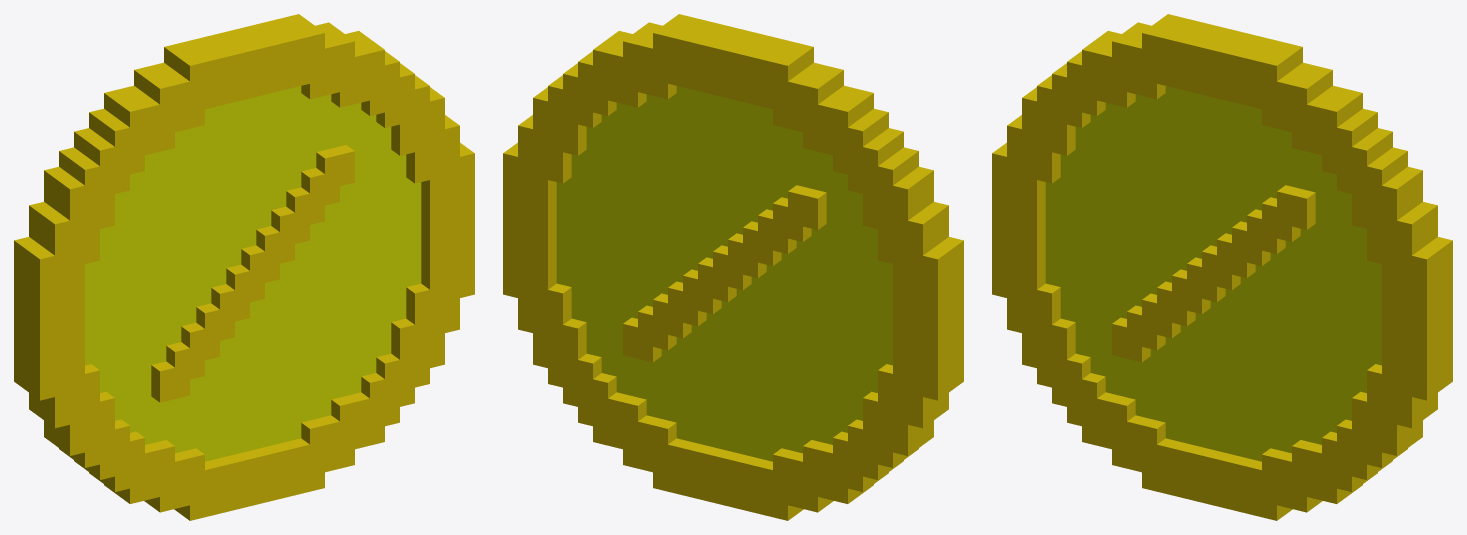
The model's file is Flat Coin.fbx.
3 renders of one model, left to right at view 1: azimuth 30°, elevation 25°; view 2: azimuth 150°, elevation 25°; view 3: azimuth 330°, elevation 25°, orthographic.
Visible parts, largest first — view 1: 20201128-3 ボクセルのコイン v2; view 2: 20201128-3 ボクセルのコイン v2; view 3: 20201128-3 ボクセルのコイン v2.
Part boxes in pixels (bbox=[...]): 20201128-3 ボクセルのコイン v2: bbox=[14, 14, 474, 520]; 20201128-3 ボクセルのコイン v2: bbox=[503, 14, 963, 520]; 20201128-3 ボクセルのコイン v2: bbox=[992, 14, 1452, 520].
Bounding box in the file's own units: 88.65 × 88.65 × 9.17.
